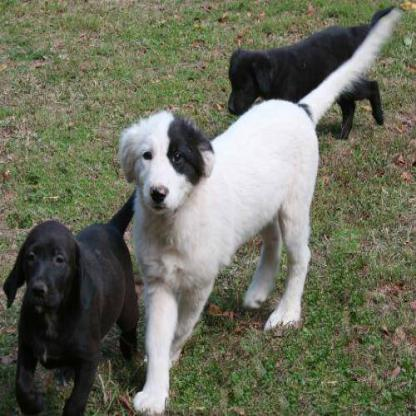dog: (94, 92, 341, 286), (208, 7, 404, 180), (14, 210, 178, 378)
